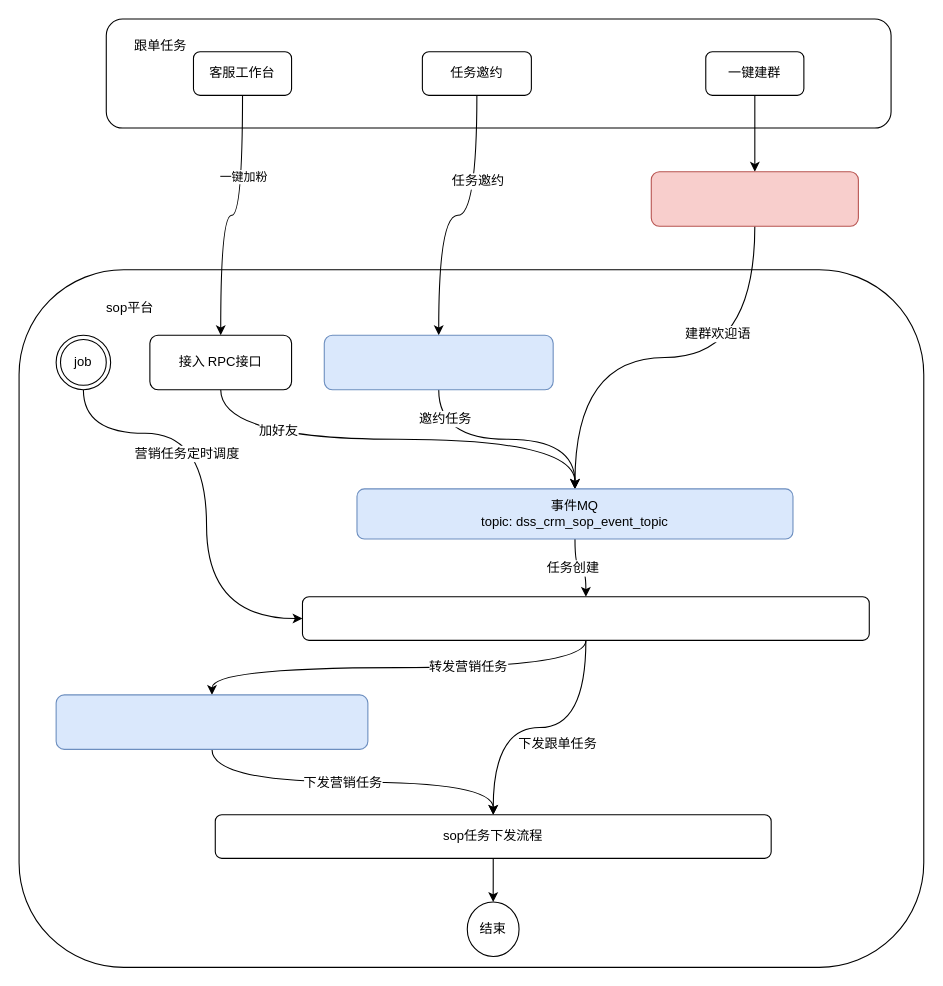
This 943x986 diagram has some shape labels left out. The shapes that lost their labels are listed below. From the top down, each one's box as (x1, y1, x2, y2) in pixels, then its label:
(650, 171, 858, 226): 企微客户事件MQ topic：dss_crm_business_topic
(323, 334, 553, 390): 接入MQ topic: dss_crm_sop_task_access
(301, 596, 869, 640): sop任务创建流程
(55, 694, 368, 749): 营销任务MQ topic: dss_crm_sop_event_topic
